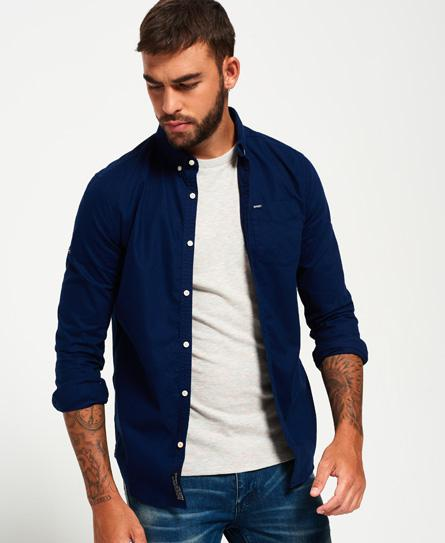teeshirt: (29, 107, 369, 502)
